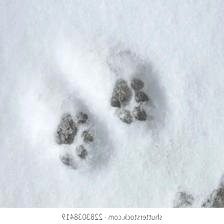cat: (52, 109, 97, 170), (106, 77, 155, 127)
